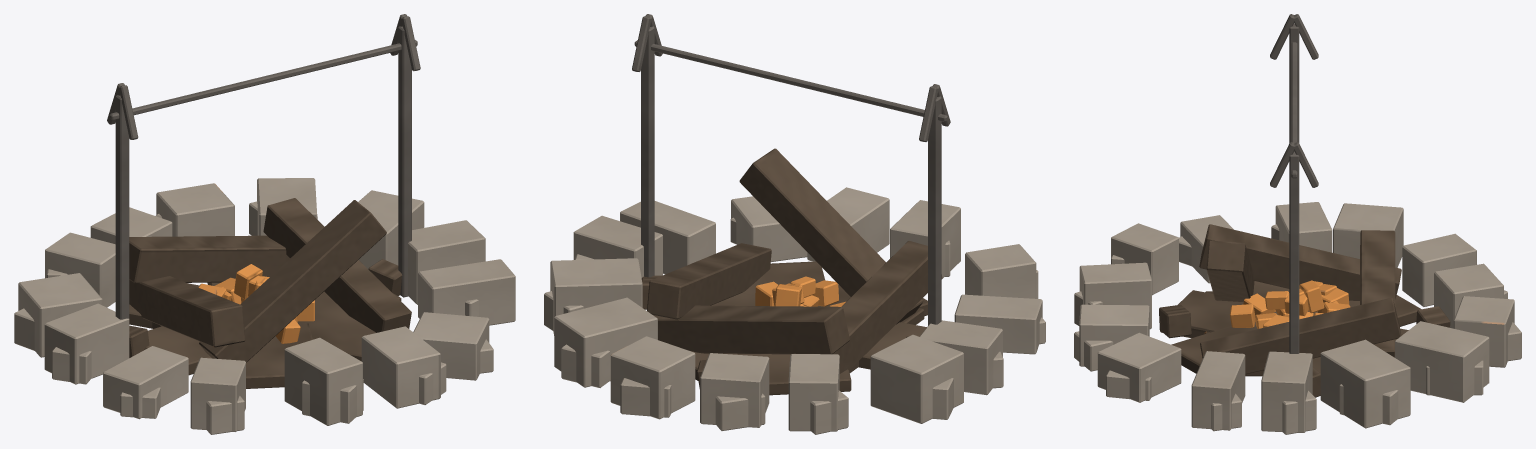
File: campfire_ring.glb
3 views of the same model, side by side, from view 1: azimuth 30°, elevation 25°; view 2: azimuth 150°, elevation 25°; view 3: azimuth 270°, elevation 25° (orthographic). The views are drawn at different scales.
Visible parts, largest first — view 1: campfire_ring; view 2: campfire_ring; view 3: campfire_ring.
Boxes of the visible parts, left/top/right/bottom form: campfire_ring: left=14, top=14, right=515, bottom=434; campfire_ring: left=544, top=14, right=1045, bottom=434; campfire_ring: left=1074, top=14, right=1521, bottom=434.
Size of the model in its own units: 1.42 by 0.8959 by 1.4.
Materials: 1 (1 with a texture image).
